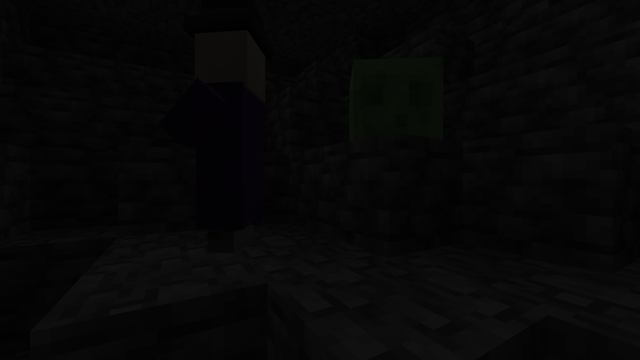slimes: (334, 45, 448, 137)
sorcieres: (195, 9, 274, 258)
